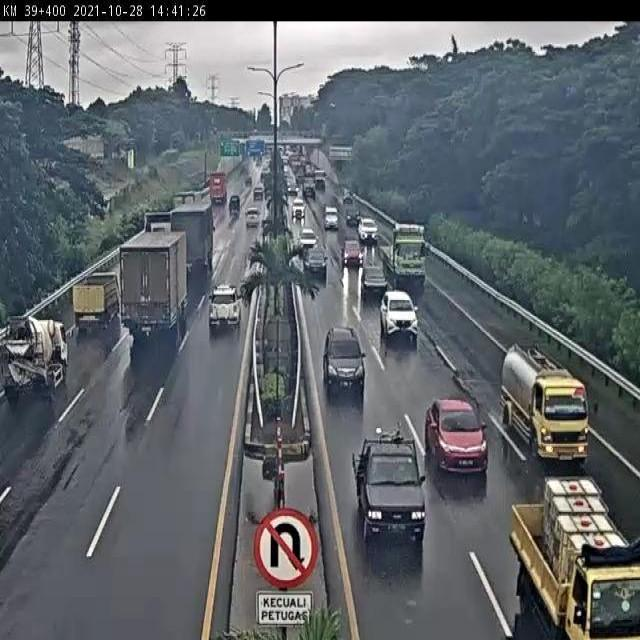big truck: (133, 210, 173, 254)
car: (352, 431, 427, 546), (423, 398, 490, 474), (322, 325, 365, 395), (380, 290, 418, 342), (208, 284, 243, 329), (360, 266, 388, 302), (304, 247, 327, 281), (340, 240, 364, 268)
mid truck: (118, 230, 188, 330), (378, 223, 427, 285), (171, 202, 214, 270)
small truck: (72, 272, 120, 329)
truck-m-: (500, 343, 590, 461), (0, 314, 68, 398)
